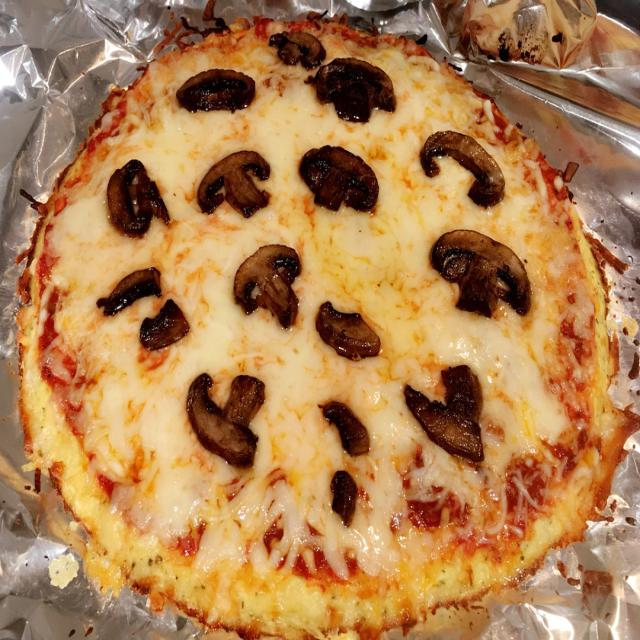mushrooms: (428, 223, 532, 329), (402, 358, 490, 464), (184, 367, 271, 469), (418, 124, 506, 205), (230, 239, 302, 336), (194, 145, 278, 226), (298, 139, 380, 219), (313, 52, 394, 126), (106, 156, 173, 240), (175, 64, 262, 120), (98, 261, 161, 319), (140, 296, 190, 352), (322, 392, 368, 451), (266, 26, 322, 71), (327, 466, 357, 518)
pizza: (8, 15, 640, 640)
